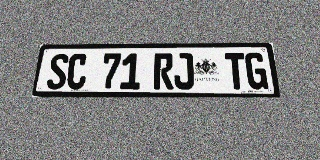1: (120, 53, 141, 89)
7: (100, 53, 121, 89)
C: (66, 54, 88, 89)
G: (244, 52, 268, 89)
J: (174, 53, 194, 89)
R: (154, 53, 173, 89)
S: (46, 54, 69, 89)
T: (224, 53, 247, 89)
